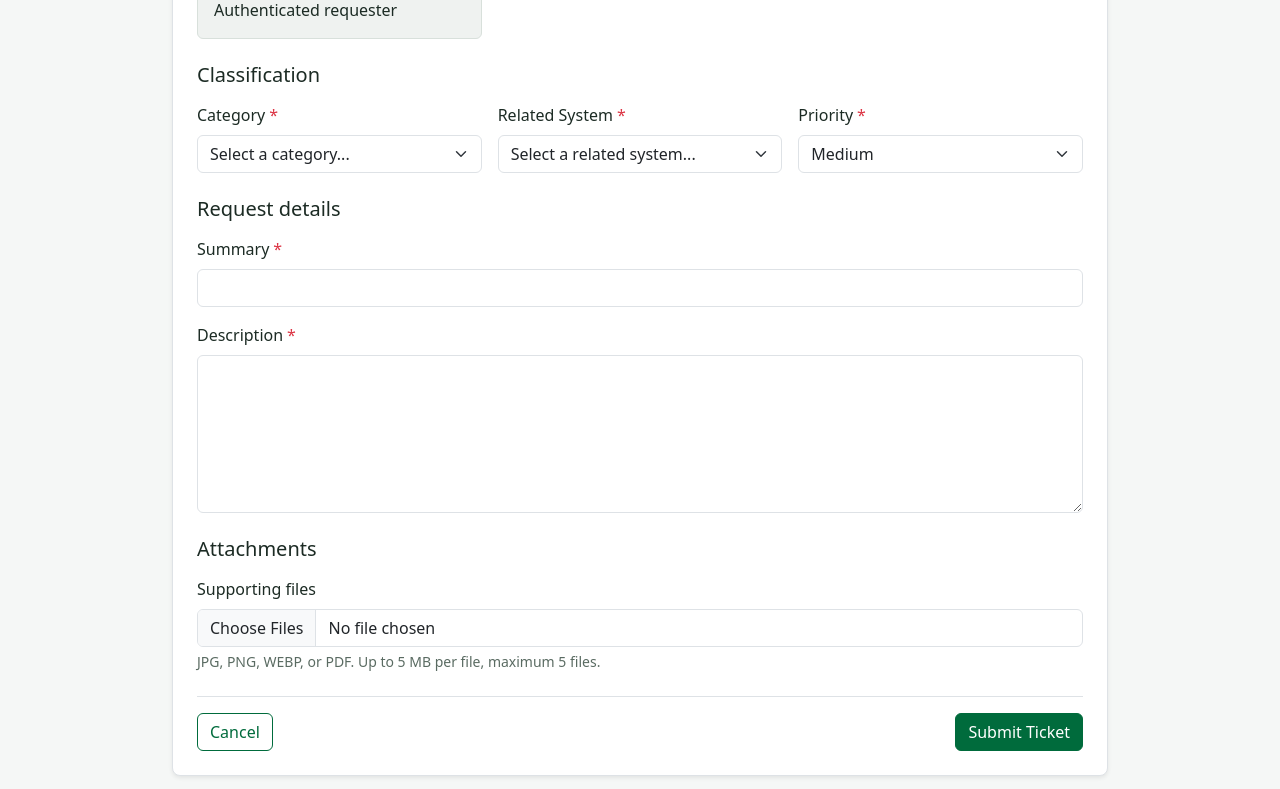
Test: CreateTicket Component › shows validation errors when submitting empty required fields
(page scrolled)
Click the button "Submit Ticket": click(1019, 732) [955,713,1083,751]
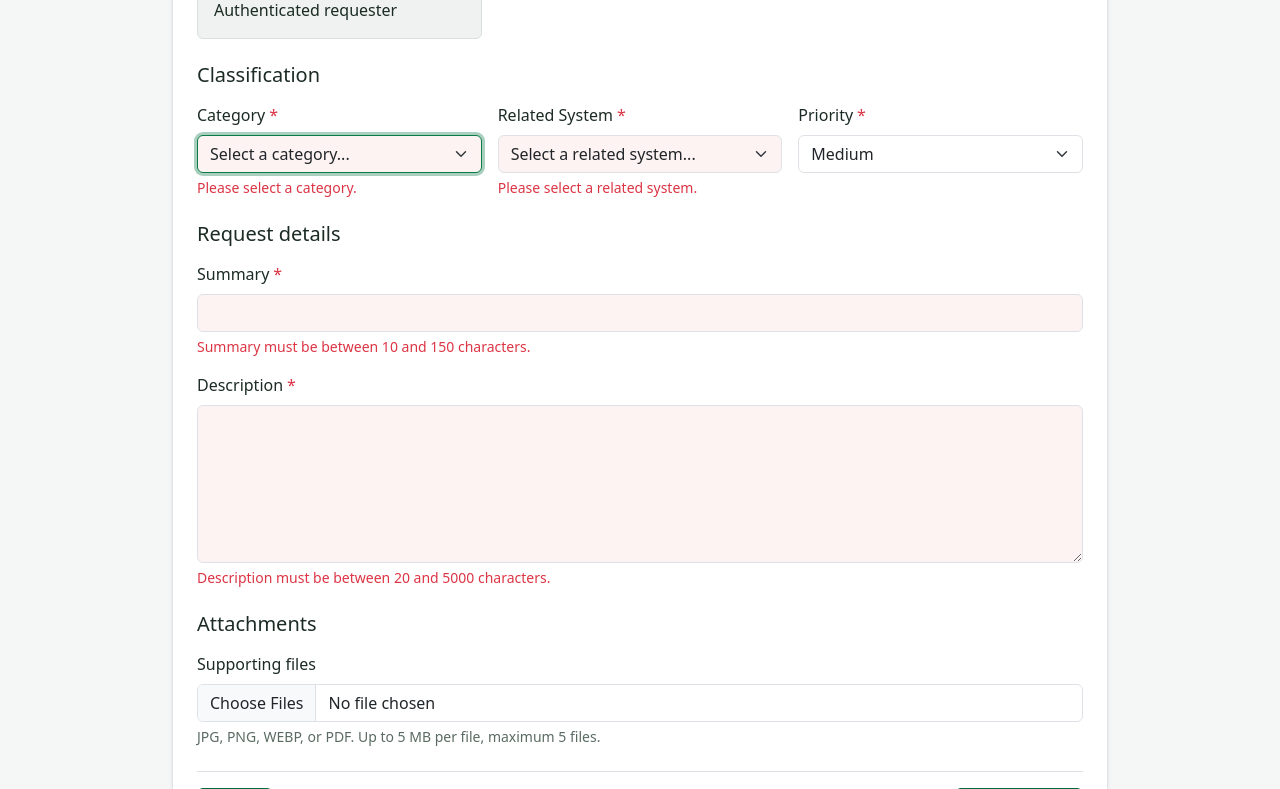
Now the text "Please select a category." is shown, box [197,178,357,197]
Now the text "Summary must be between 10 and 150 characters." is shown, box [197,337,530,356]
Now the text "Description must be between 20 and 5000 characters." is shown, box [197,568,550,587]
